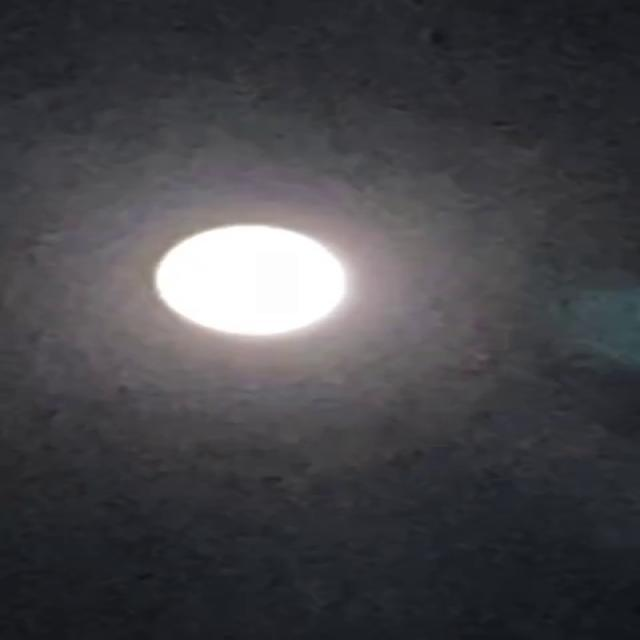moon: (127, 219, 354, 340)
